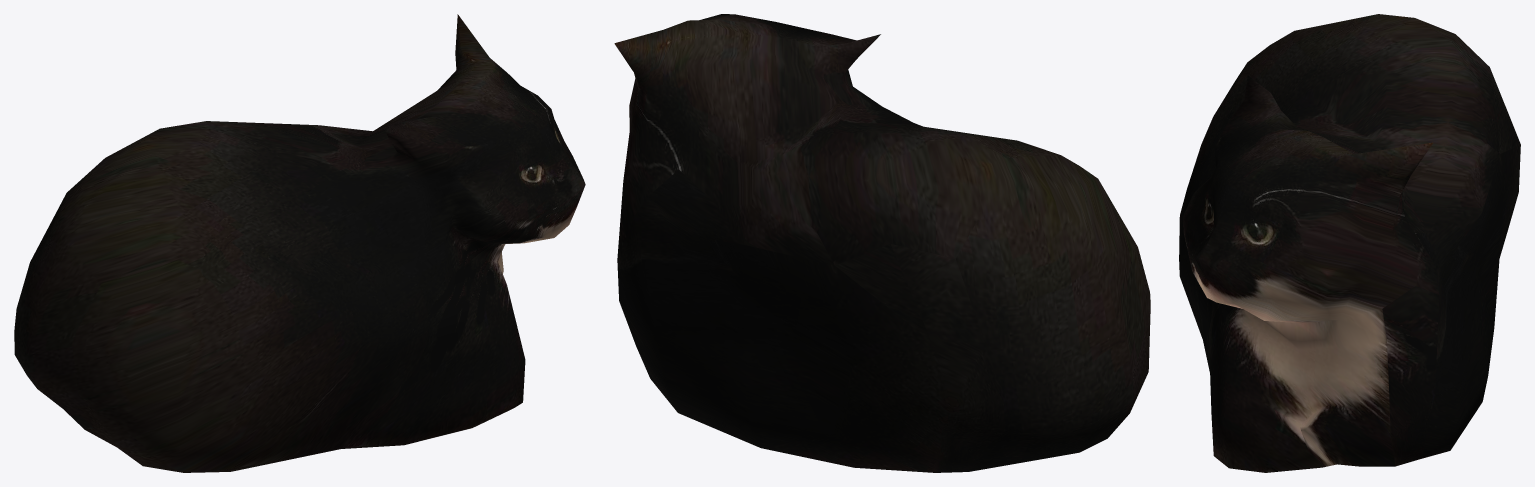
File: Maxwell.obj
3 renders of one model, left to right at view 1: azimuth 30°, elevation 25°; view 2: azimuth 150°, elevation 25°; view 3: azimuth 270°, elevation 25°, orthographic. The views are drawn at different scales.
Visible parts, largest first — view 1: dingus; view 2: dingus; view 3: dingus.
Part boxes in pixels (box(x1,y1,x2,y2)): dingus: box(14, 14, 585, 472); dingus: box(614, 14, 1150, 472); dingus: box(1179, 14, 1520, 472).
Size of the model in its own units: 0.3578 by 0.2306 by 0.1979.
